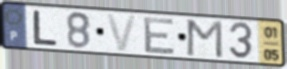3: (226, 21, 255, 62)
8: (65, 10, 92, 50)
E: (143, 16, 178, 55)
L: (32, 9, 60, 47)
M: (185, 18, 225, 60)
V: (104, 13, 139, 53)
